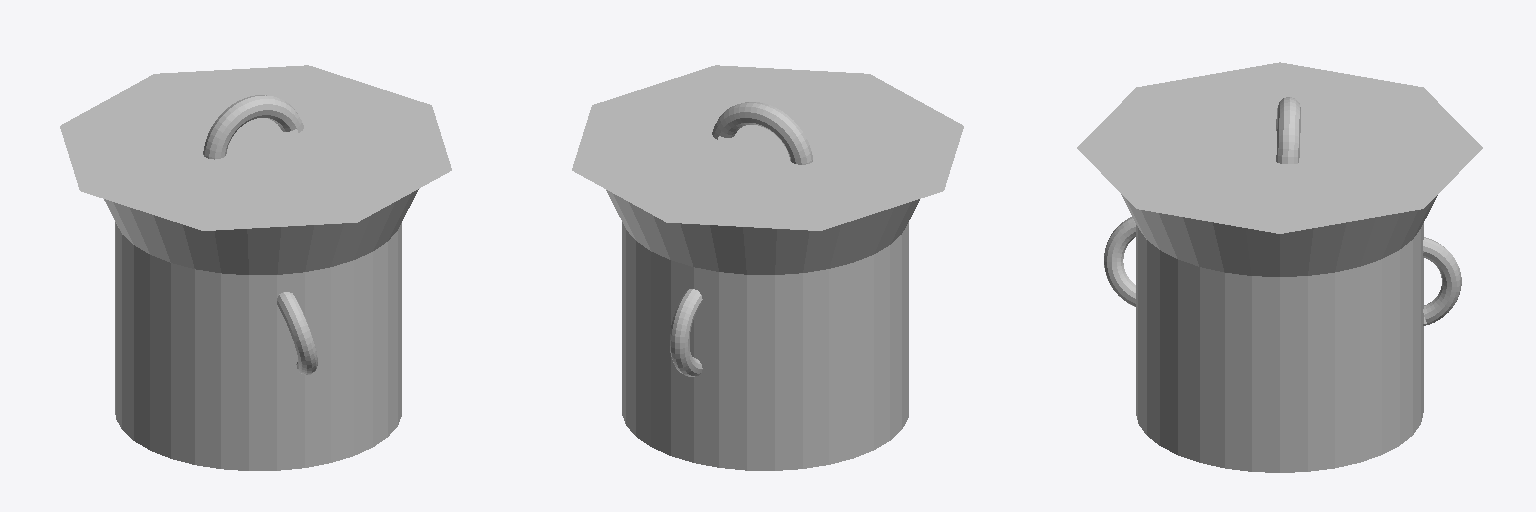
File: Bin.obj
The picture shows the model from 3 angles: view 1: azimuth 30°, elevation 25°; view 2: azimuth 150°, elevation 25°; view 3: azimuth 270°, elevation 25°; orthographic projection.
Visible parts, largest first — view 1: Cylinder_Cylinder.004, Circle, Torus, Torus.003; view 2: Cylinder_Cylinder.004, Circle, Torus, Torus.001; view 3: Cylinder_Cylinder.004, Circle, Torus.001, Torus.003, Torus.
Boxes of the visible parts, box(x1,y1,x2,y2) form: Cylinder_Cylinder.004: box(104, 189, 418, 470); Circle: box(60, 65, 451, 230); Torus: box(203, 95, 303, 159); Torus.003: box(277, 292, 317, 374); Cylinder_Cylinder.004: box(606, 190, 919, 470); Circle: box(572, 65, 963, 230); Torus: box(712, 102, 812, 164); Torus.001: box(670, 289, 702, 376); Cylinder_Cylinder.004: box(1121, 194, 1437, 472); Circle: box(1077, 62, 1482, 233); Torus.001: box(1423, 237, 1461, 325); Torus.003: box(1104, 217, 1135, 306); Torus: box(1276, 97, 1300, 163).
Size of the model in its own units: 2.82 by 2.37 by 2.82.